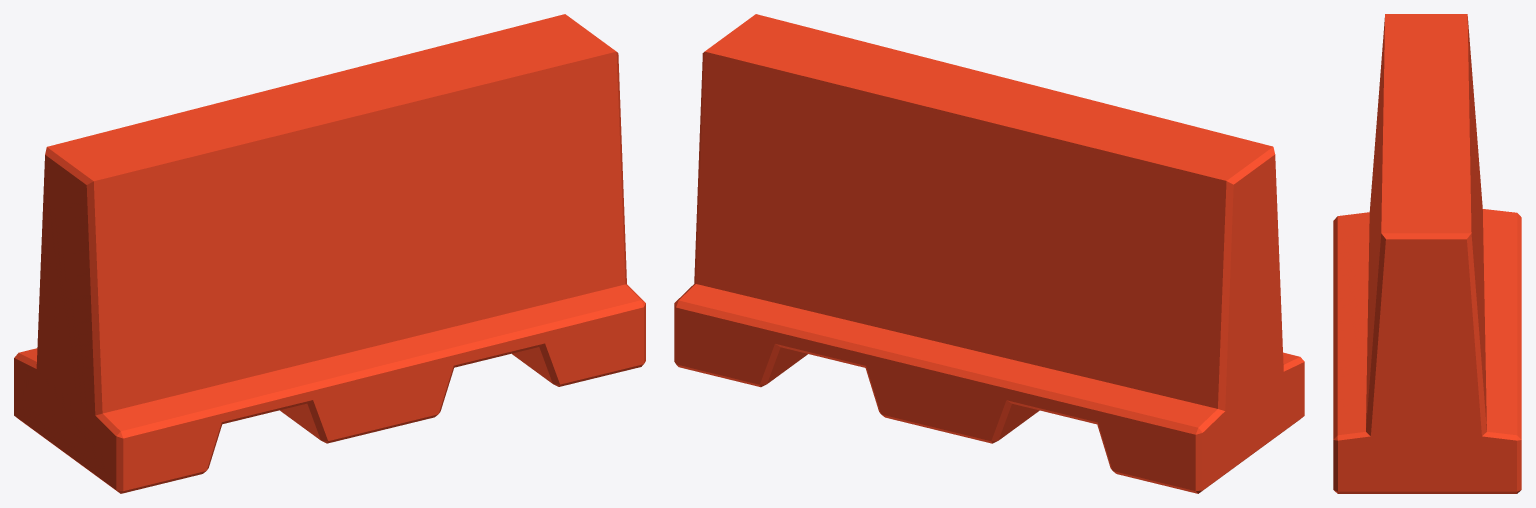
Rendered from SM_Barrier_B_City.fbx.
The picture shows the model from 3 angles, left to right: view 1: azimuth 30°, elevation 25°; view 2: azimuth 150°, elevation 25°; view 3: azimuth 270°, elevation 25°; orthographic projection. The views are drawn at different scales.
Parts seen in each view (by area): view 1: SM_Barrier_B_City; view 2: SM_Barrier_B_City; view 3: SM_Barrier_B_City.
Boxes of the visible parts, x1,y1,x2,y2 form: SM_Barrier_B_City: (14, 14, 645, 493); SM_Barrier_B_City: (674, 14, 1304, 493); SM_Barrier_B_City: (1333, 14, 1521, 493).
Size of the model in its own units: 1.06 by 0.5692 by 0.3725.
